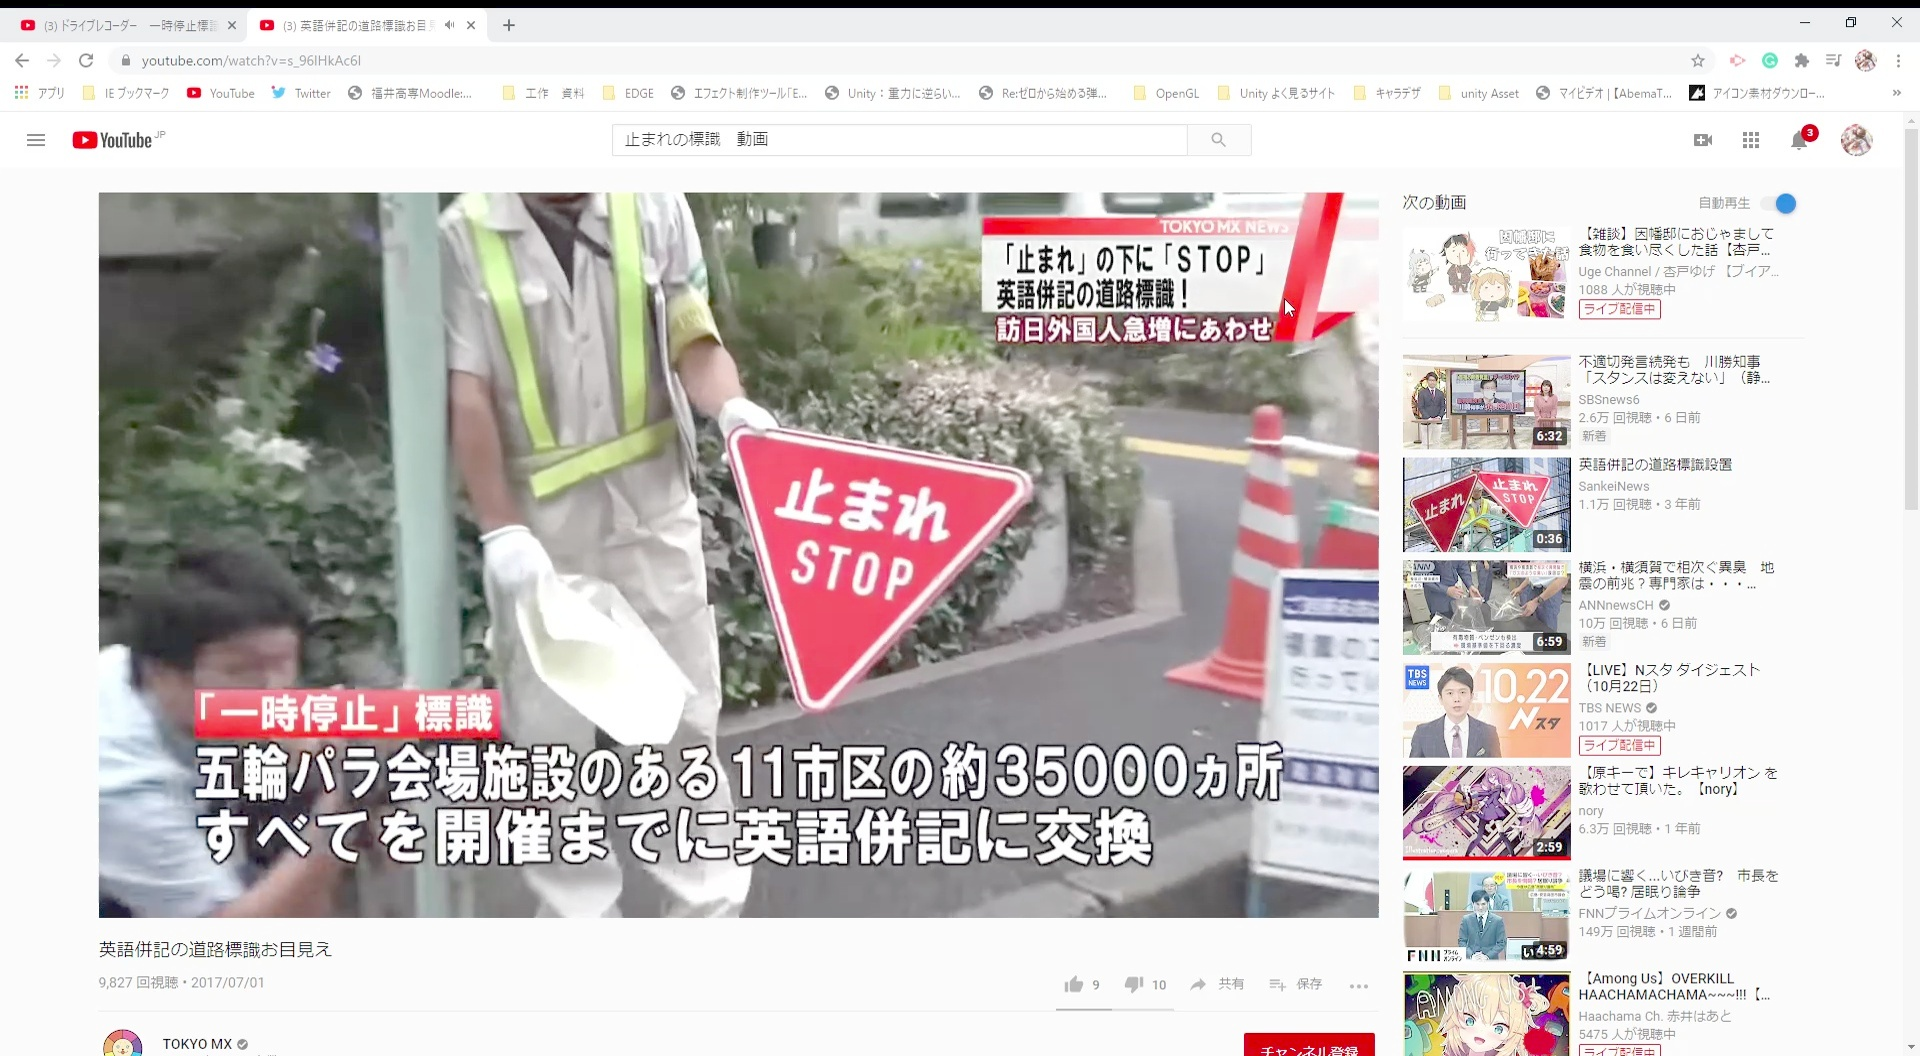Regulatory_sign_triangle: (714, 402, 1046, 719)
